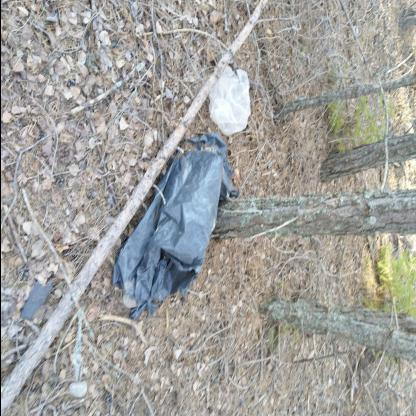plastik: (113, 133, 237, 321), (209, 67, 251, 137)
